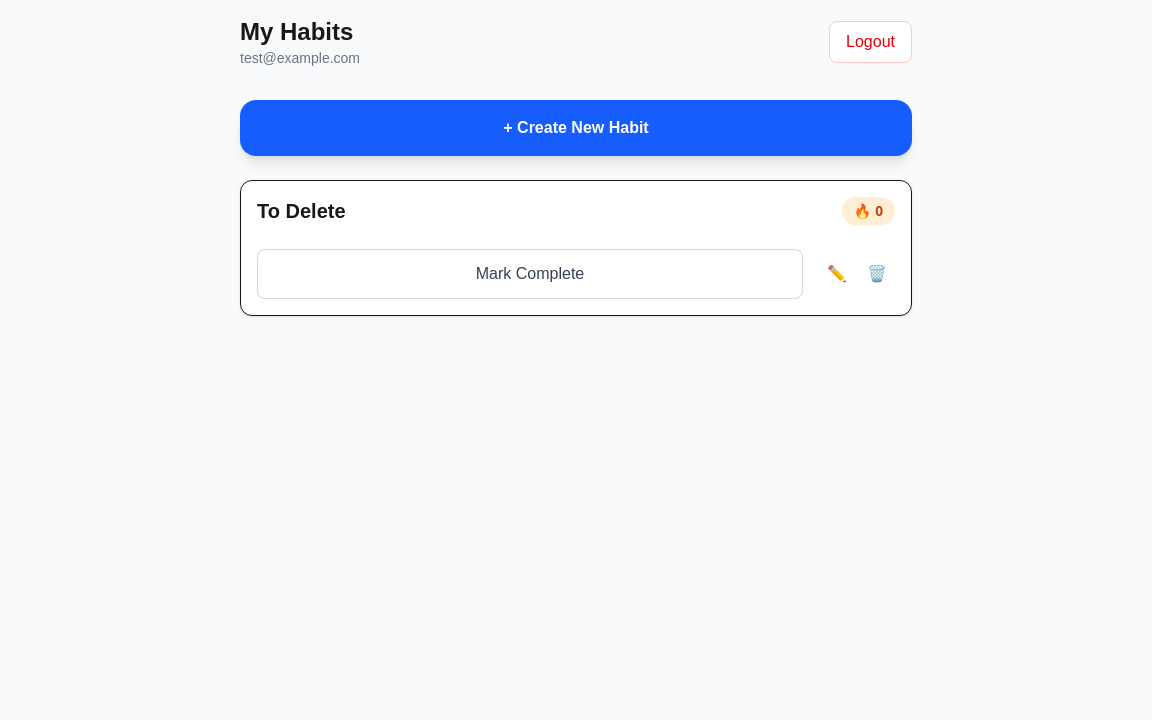
Test: habit form › deletes a habit only after explicit confirmation
Click the button with test id "habit-delete-to-delete": point(877, 274) top-left (859, 254), bottom-right (895, 294)
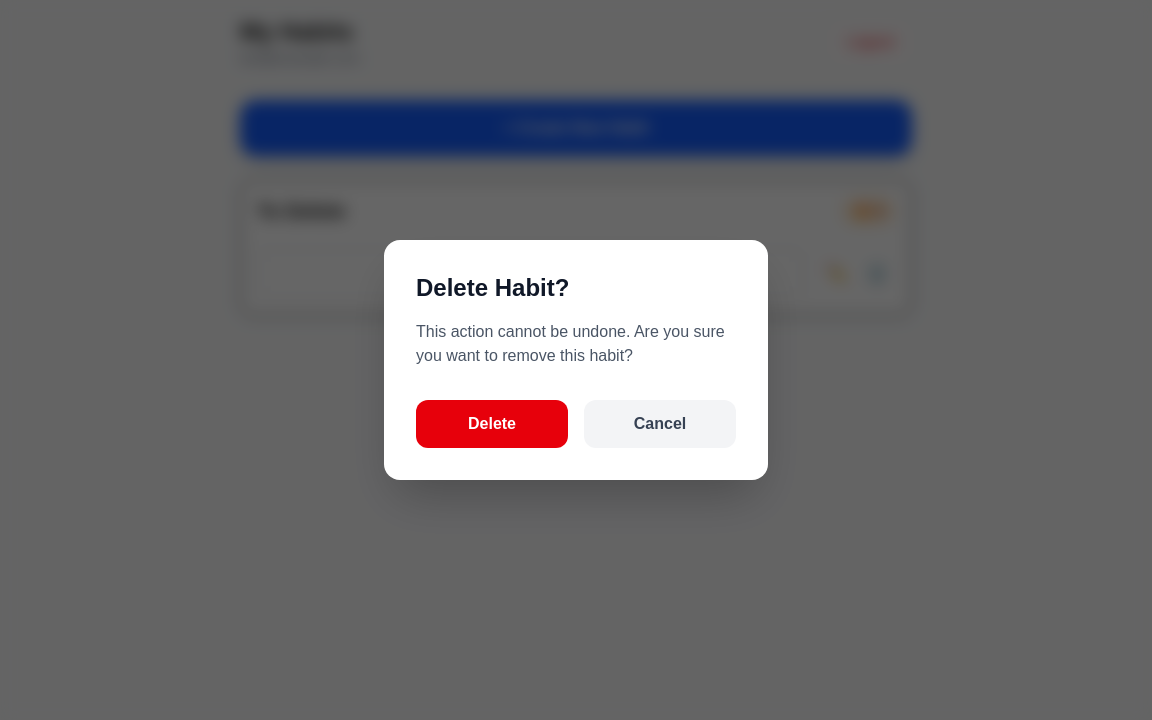
Now the heading "Delete Habit?" is shown, box top-left (416, 274), bottom-right (569, 301)
Click the button with test id "confirm-delete-button": point(492, 424) top-left (416, 400), bottom-right (568, 448)
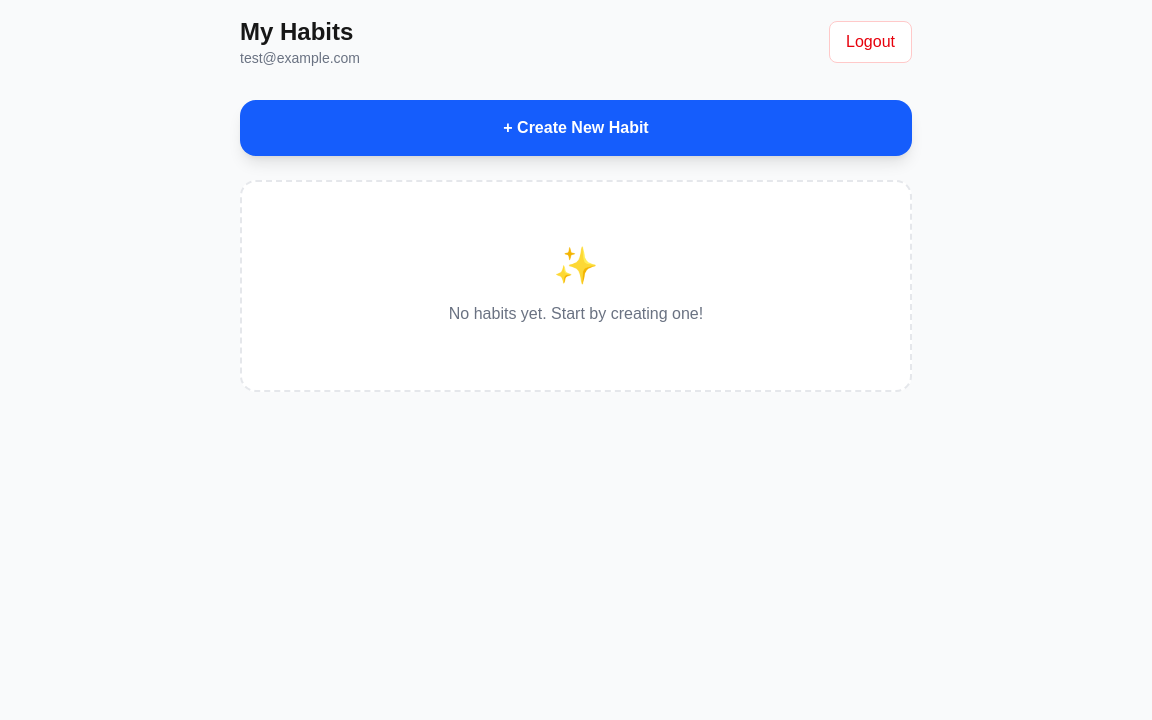
Now the element with test id "habit-card-to-delete" is gone
